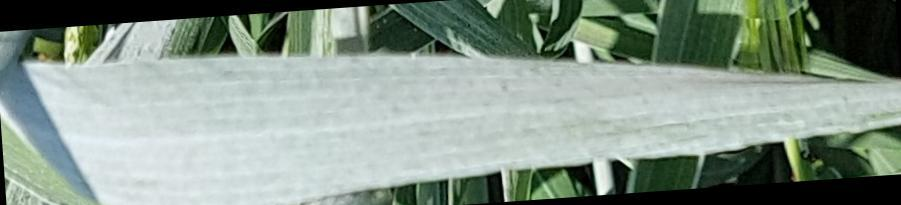Wheat: (48, 82, 892, 201)
